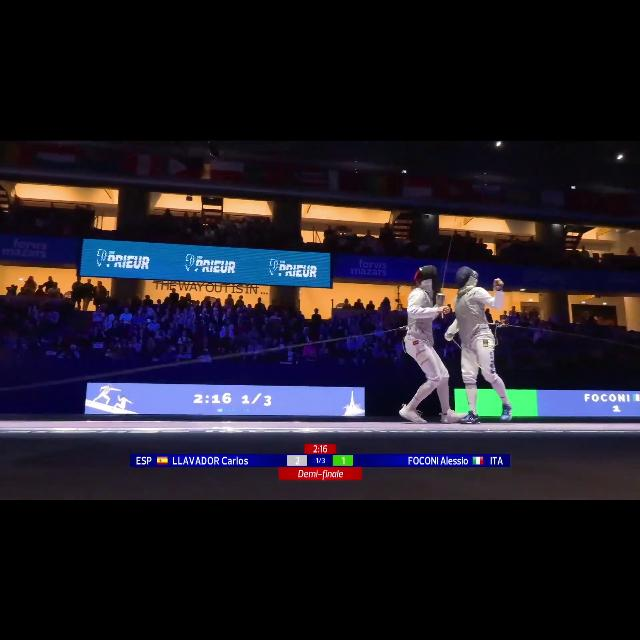blade: (441, 330, 492, 376), (437, 220, 458, 306)
